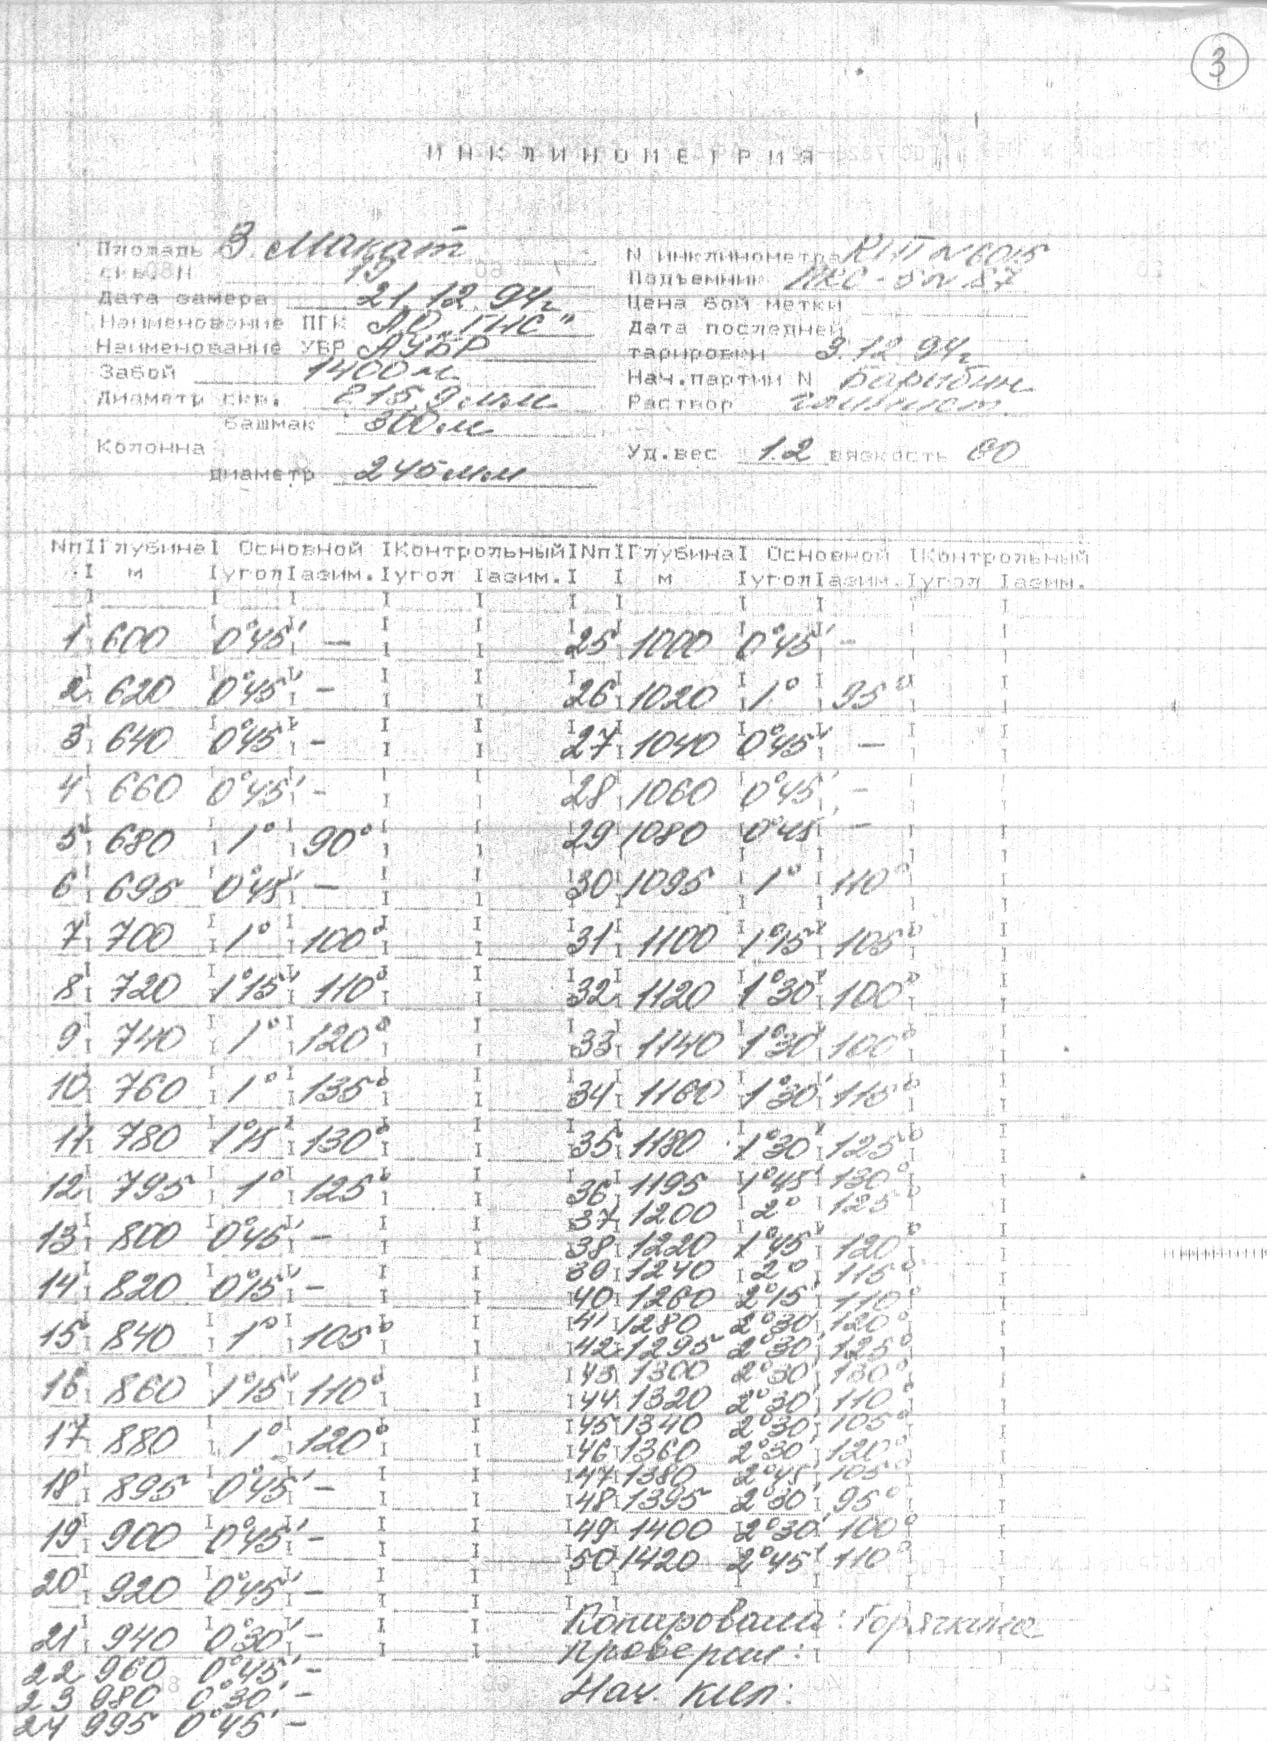Borderless: (5, 535, 1279, 1744)
